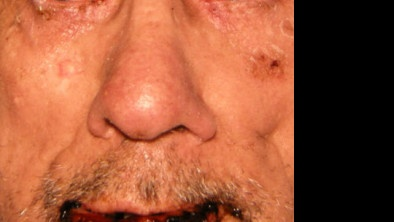SJS-TEN: (0, 0, 121, 88), (180, 0, 291, 89), (54, 187, 260, 221)
